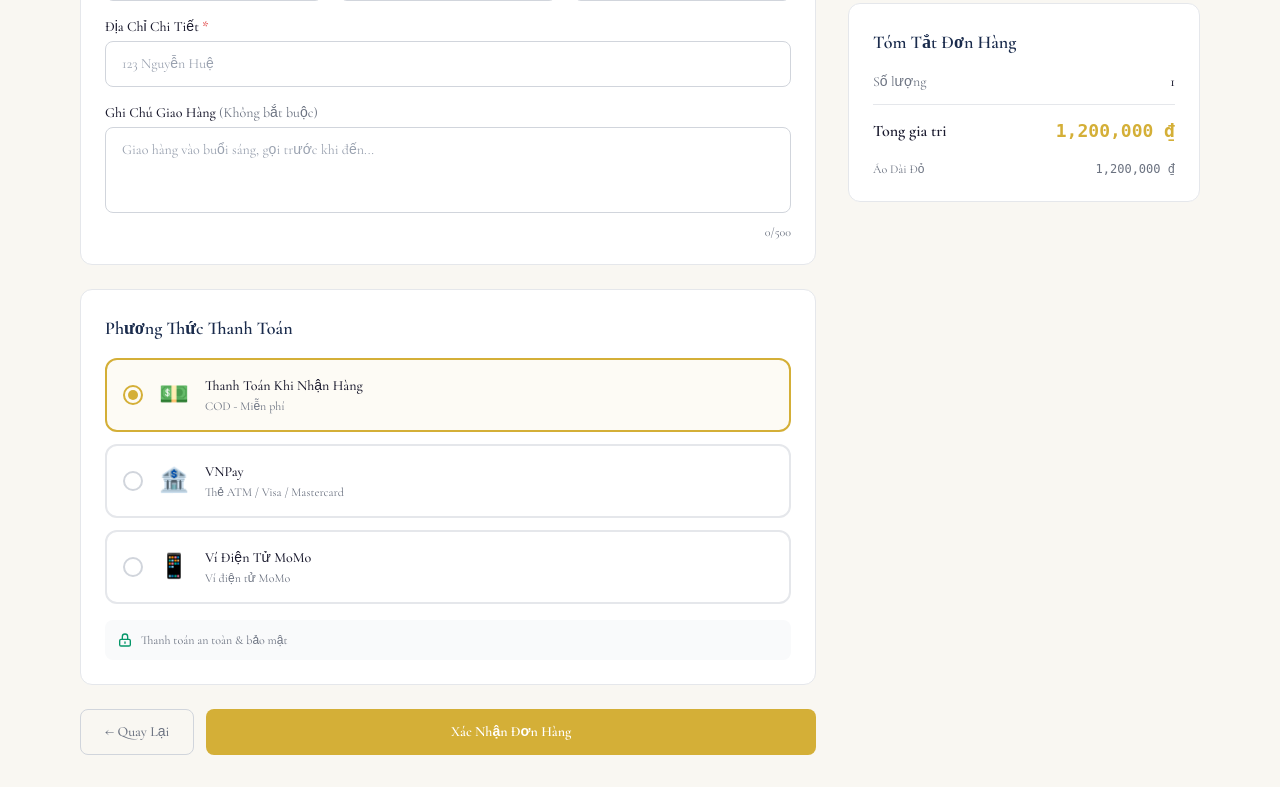
Test: ShippingFormClient › shows validation errors on empty submit
(page scrolled)
Click the button with test id "submit-button": (511, 732) [206,709,816,755]
(page scrolled)
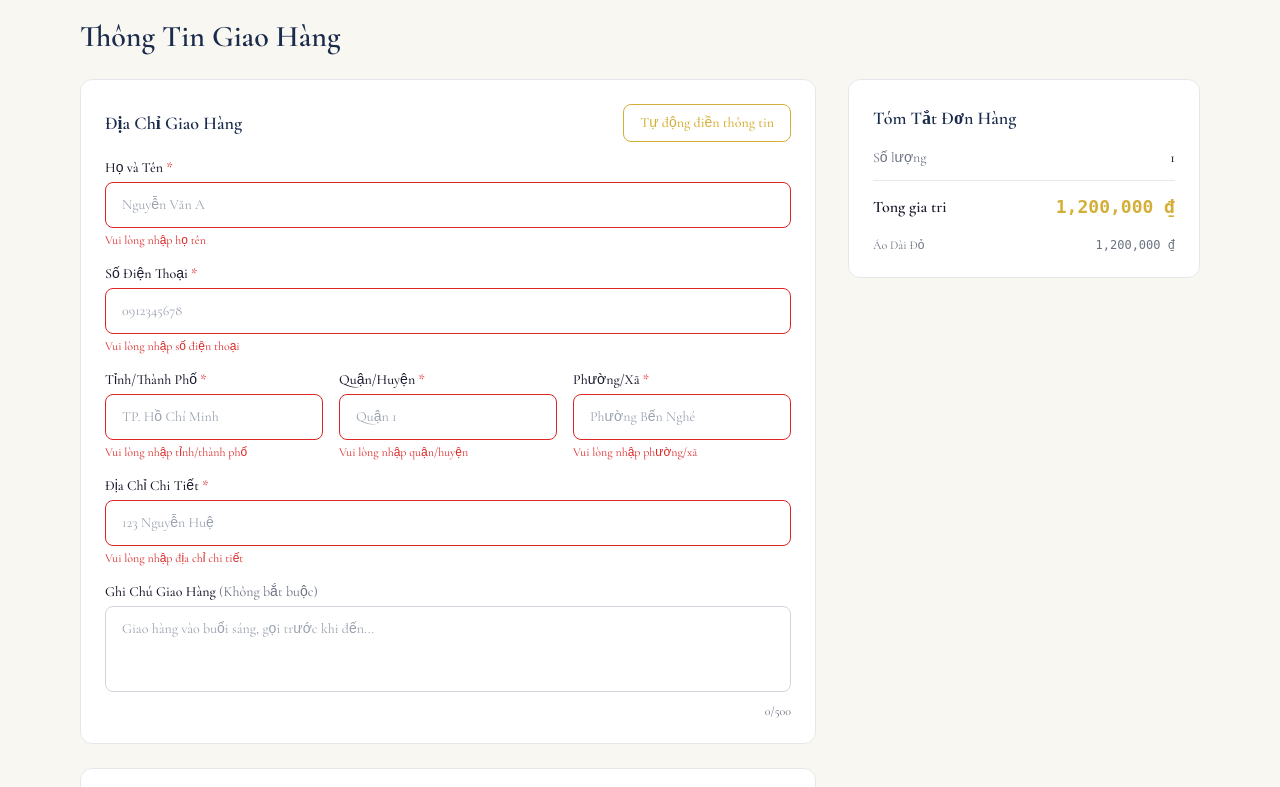
Result: the message "Vui lòng nhập họ tên" is shown at [105,233,206,247]
Result: the message "Vui lòng nhập số điện thoại" is shown at [105,339,240,353]
